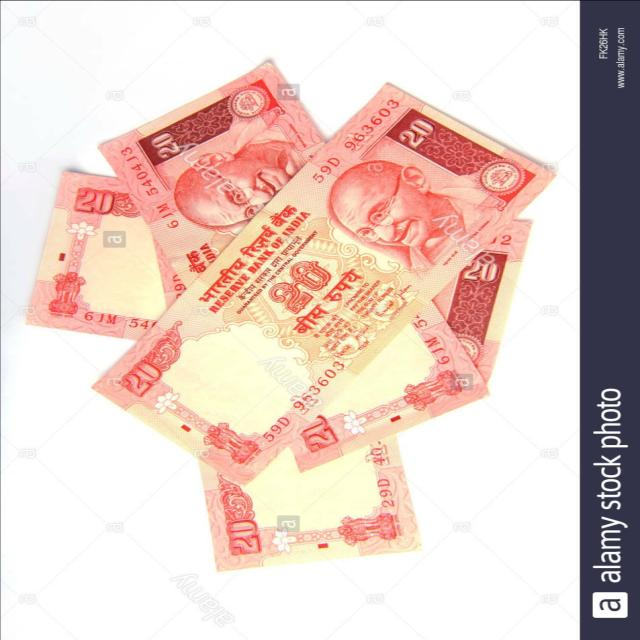20IndianRupees: (90, 77, 566, 465)
